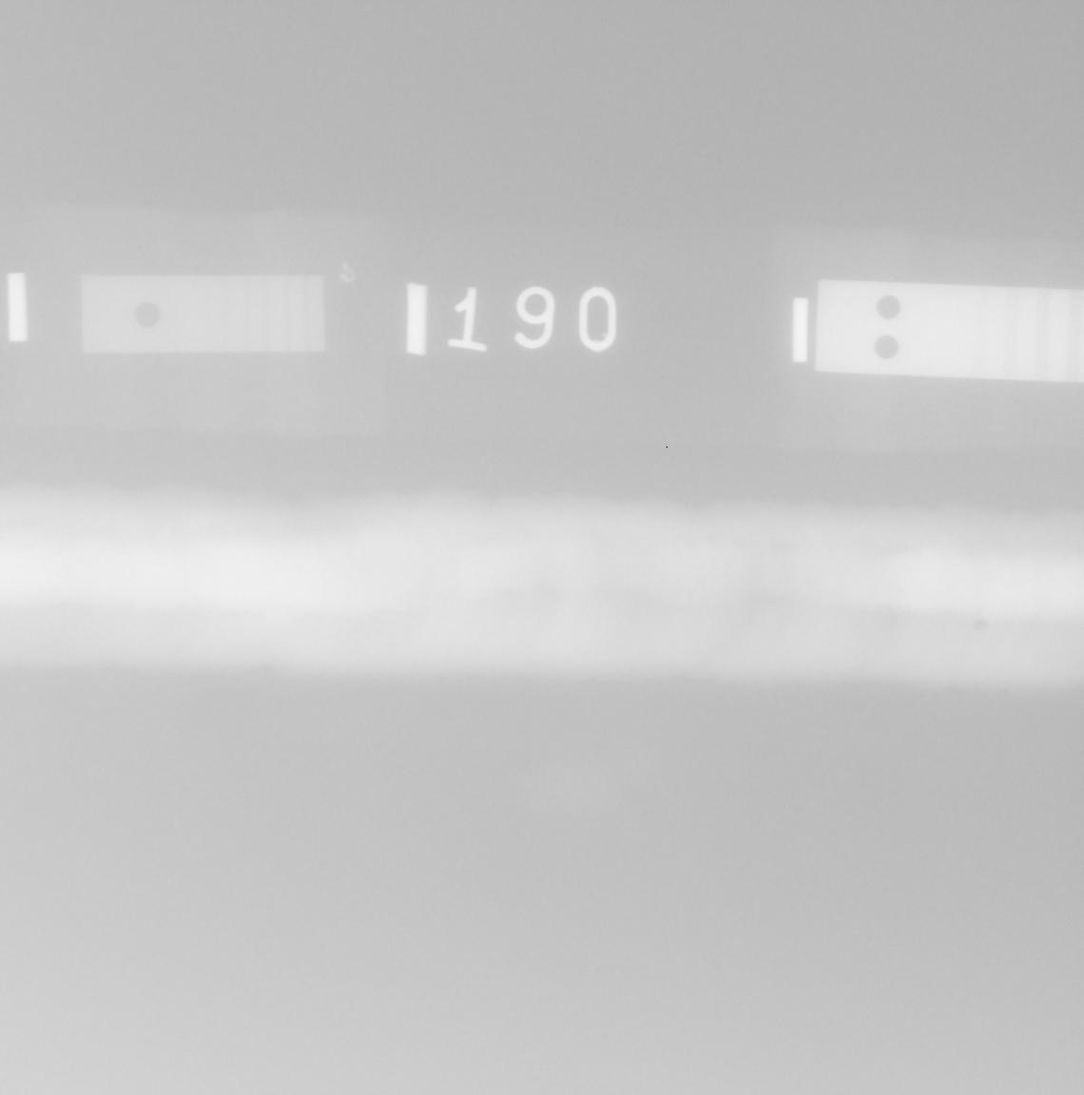Pore/Porosity: (975, 619, 987, 631)
Reference Standard 1: (81, 275, 325, 353)
